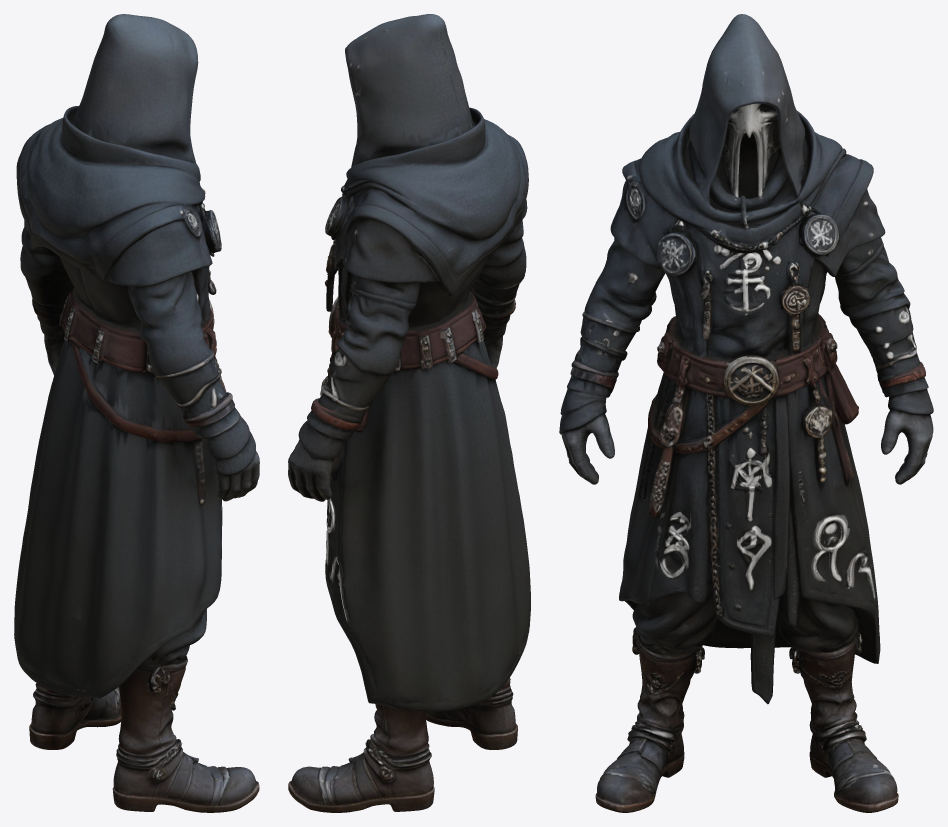
3 views of the same model, side by side, from view 1: azimuth 30°, elevation 25°; view 2: azimuth 150°, elevation 25°; view 3: azimuth 270°, elevation 25° (orthographic).
Parts seen in each view (by area): view 1: tripo_node_e1ec1b25; view 2: tripo_node_e1ec1b25; view 3: tripo_node_e1ec1b25.
Boxes of the visible parts, x1=… form: tripo_node_e1ec1b25: x1=14, y1=14, x2=259, y2=812; tripo_node_e1ec1b25: x1=288, y1=14, x2=530, y2=812; tripo_node_e1ec1b25: x1=559, y1=14, x2=933, y2=812.
Size of the model in its own units: 0.224 by 0.9793 by 0.4338.
1 material, 1 textured.
